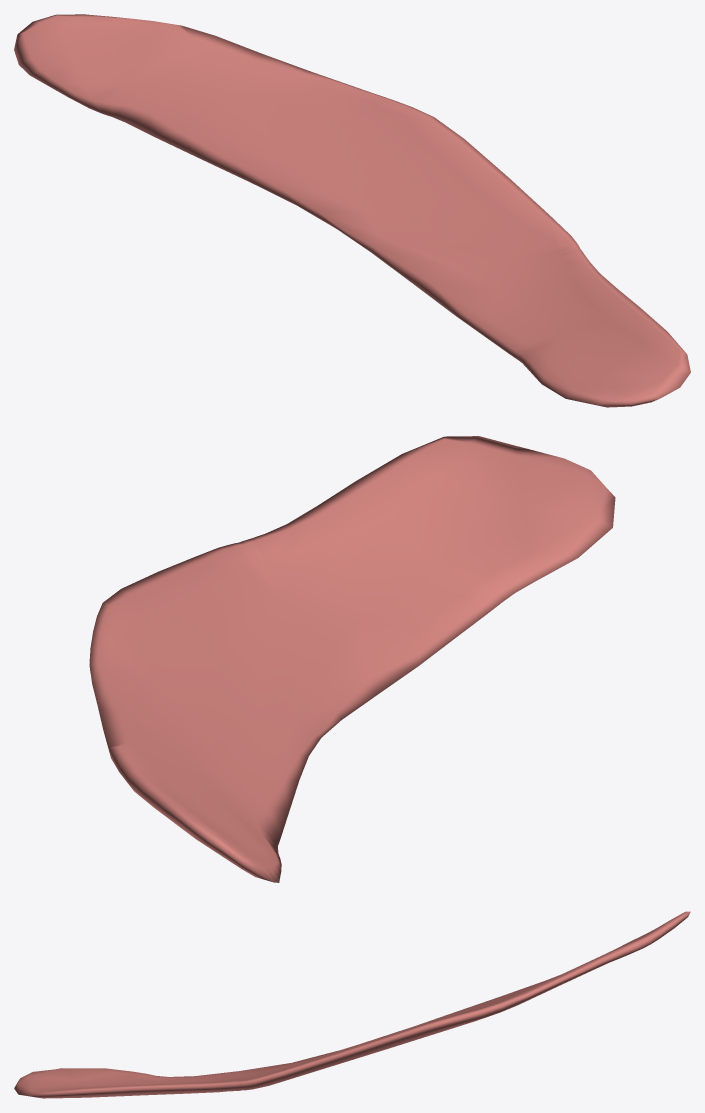
3 renders of one model, top to bottom at view 1: azimuth 30°, elevation 25°; view 2: azimuth 150°, elevation 25°; view 3: azimuth 270°, elevation 25°, orthographic. The views are drawn at different scales.
Visible parts, largest first — view 1: ZA_20c2e6831651f19a; view 2: ZA_20c2e6831651f19a; view 3: ZA_20c2e6831651f19a.
Part boxes in pixels (x1,y1,x2,y2): ZA_20c2e6831651f19a: (14,14,690,407); ZA_20c2e6831651f19a: (89,436,615,882); ZA_20c2e6831651f19a: (14,911,690,1098).
Size of the model in its own units: 0.0135 by 0.00622 by 0.0335.
